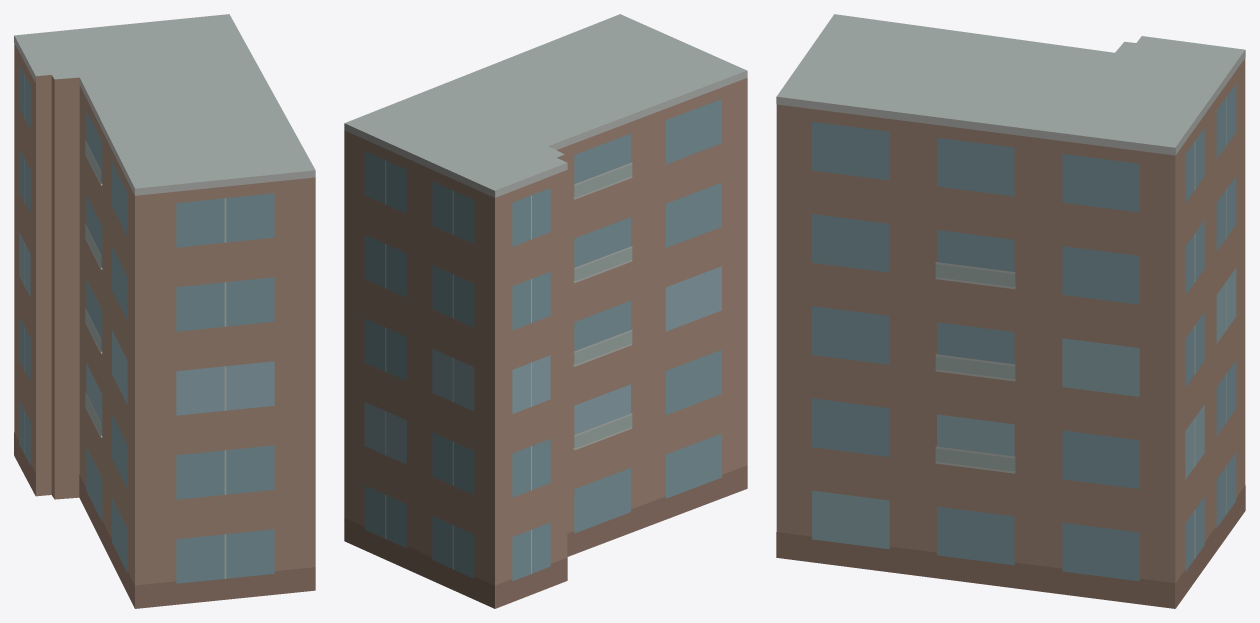
Rendered from survey-upis-32528069.glb.
3 views of the same model, side by side, from view 1: azimuth 30°, elevation 25°; view 2: azimuth 150°, elevation 25°; view 3: azimuth 270°, elevation 25° (orthographic). The views are drawn at different scales.
Parts seen in each view (by area): view 1: survey-upis-32528069.tmp; view 2: survey-upis-32528069.tmp; view 3: survey-upis-32528069.tmp.
Part boxes in pixels (box(x1,y1,x2,y2)): survey-upis-32528069.tmp: box(14, 14, 315, 608); survey-upis-32528069.tmp: box(344, 14, 747, 608); survey-upis-32528069.tmp: box(776, 14, 1245, 608).
Size of the model in its own units: 9.03 by 14.5 by 13.38.
